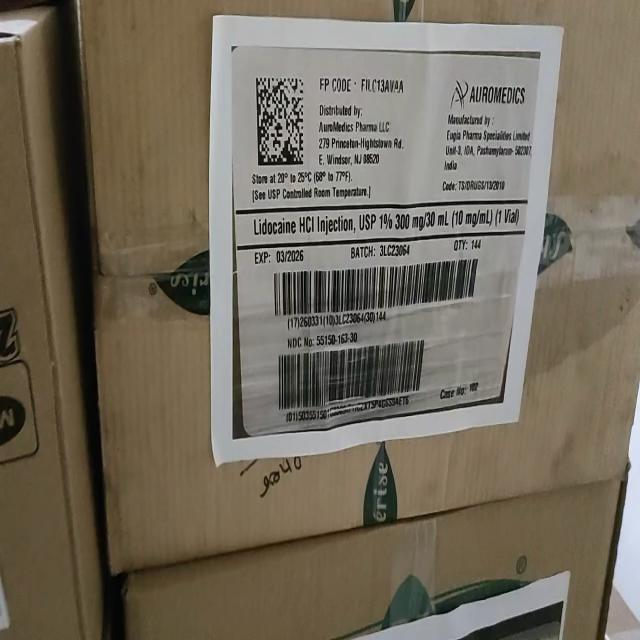BoxFace: (72, 2, 637, 578)
